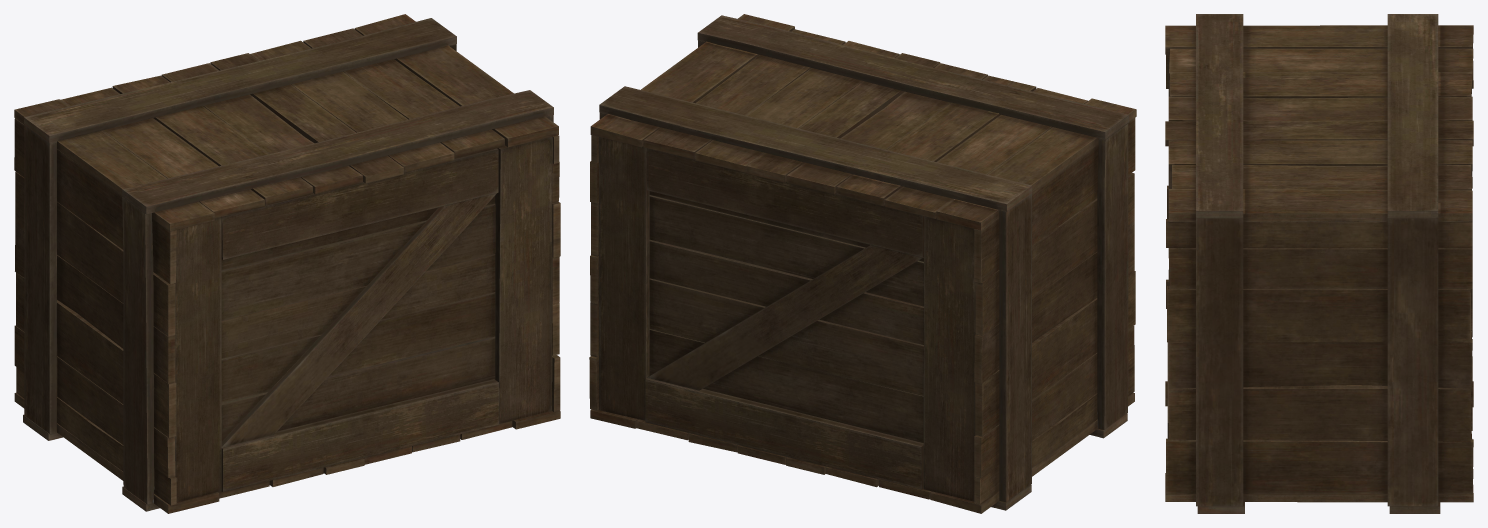
3 views of the same model, side by side, from view 1: azimuth 30°, elevation 25°; view 2: azimuth 150°, elevation 25°; view 3: azimuth 270°, elevation 25° (orthographic).
Parts seen in each view (by area): view 1: lp1_mat2_0, lp2_mat1_0, lp8_mat3_0, lp7_mat4_0, lp3_mat2_0, lp6_mat2_0, lp15_mat3_0, lp10_mat4_0; view 2: lp16_mat2_0, lp11_mat1_0, lp8_mat3_0, lp7_mat4_0, lp3_mat2_0, lp6_mat2_0, lp15_mat3_0, lp10_mat4_0, lp4_mat2_0; view 3: lp10_mat4_0, lp8_mat3_0, lp5_mat2_0, lp3_mat2_0, lp15_mat3_0, lp4_mat2_0, lp7_mat4_0.
Part boxes in pixels (x1,y1,x2,y2): lp1_mat2_0: (174, 136, 552, 502); lp2_mat1_0: (221, 196, 495, 441); lp8_mat3_0: (14, 14, 558, 231); lp7_mat4_0: (14, 118, 176, 505); lp3_mat2_0: (24, 18, 553, 214); lp6_mat2_0: (24, 125, 154, 504); lp15_mat3_0: (14, 392, 560, 513); lp10_mat4_0: (552, 135, 560, 411); lp16_mat2_0: (599, 137, 975, 501); lp11_mat1_0: (649, 191, 923, 442); lp8_mat3_0: (590, 14, 1136, 230); lp7_mat4_0: (974, 118, 1135, 504); lp3_mat2_0: (599, 15, 1129, 211); lp6_mat2_0: (999, 123, 1128, 502); lp15_mat3_0: (590, 392, 1134, 513); lp10_mat4_0: (589, 135, 598, 410); lp4_mat2_0: (991, 413, 1127, 510); lp10_mat4_0: (1166, 219, 1473, 494); lp8_mat3_0: (1165, 25, 1473, 221); lp5_mat2_0: (1196, 218, 1438, 506); lp3_mat2_0: (1196, 14, 1438, 218); lp15_mat3_0: (1165, 309, 1473, 502); lp4_mat2_0: (1197, 502, 1440, 513); lp7_mat4_0: (1166, 54, 1473, 308).
Bounding box in the file's own units: 27.17 × 19.52 × 17.97.
4 materials, 4 textured.
